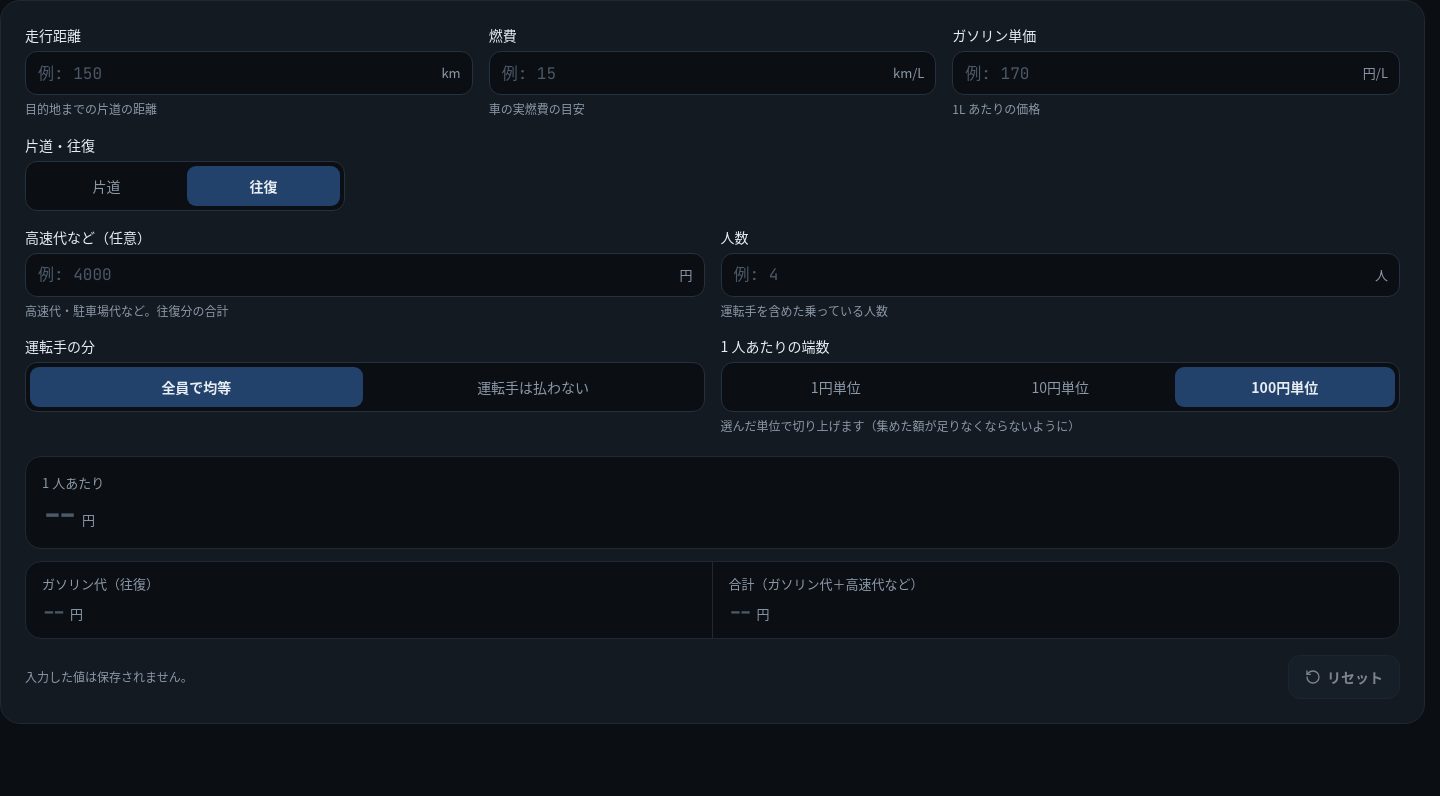
Test case: WarikanCalculator › 入力すると 1 人あたりを出し、URL のクエリを置き換える（履歴は増やさない）
Type "150" into the field labelled "走行距離" at (249,73), box [25,51,473,95]
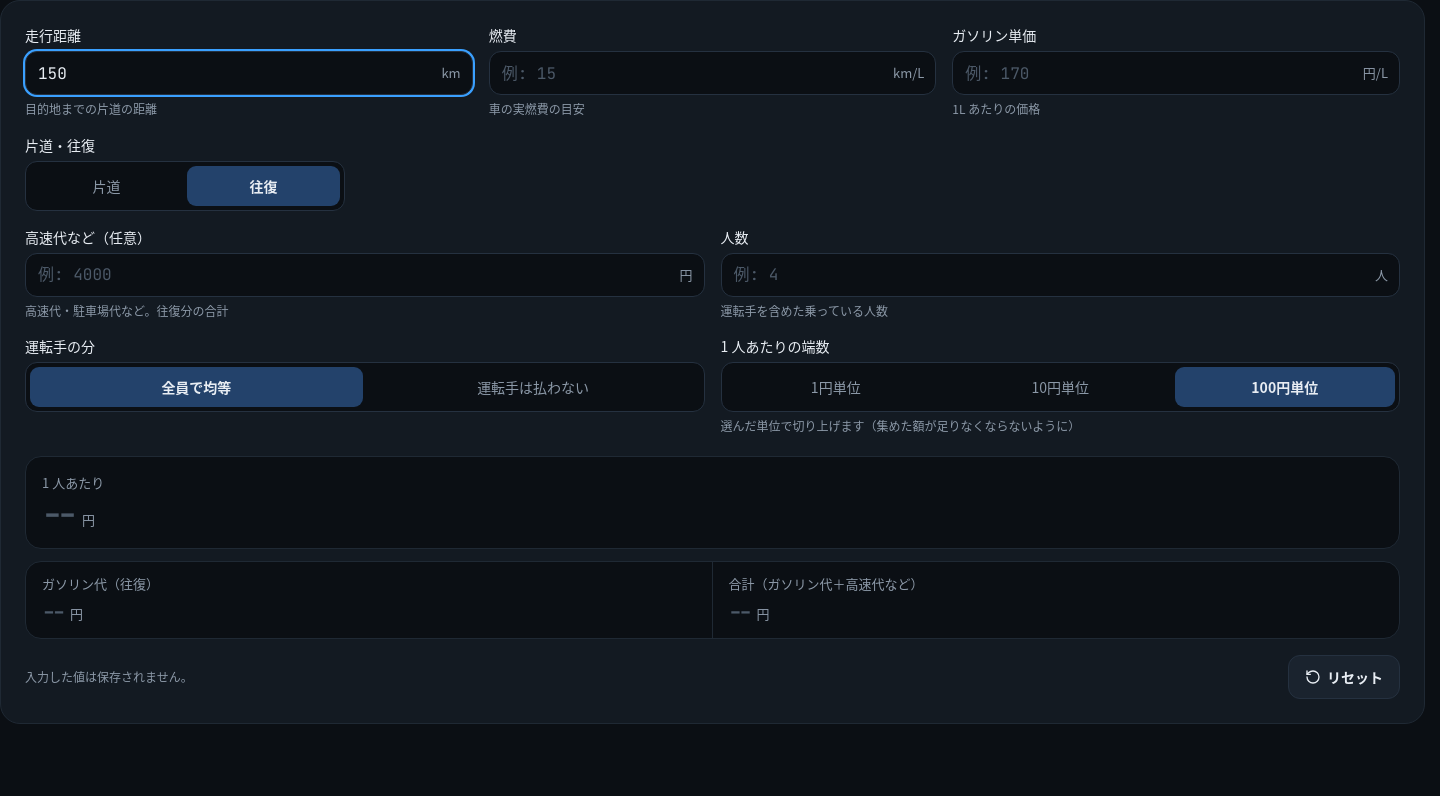
Type "15" into the field labelled "燃費" at (713,73), box [489,51,936,95]
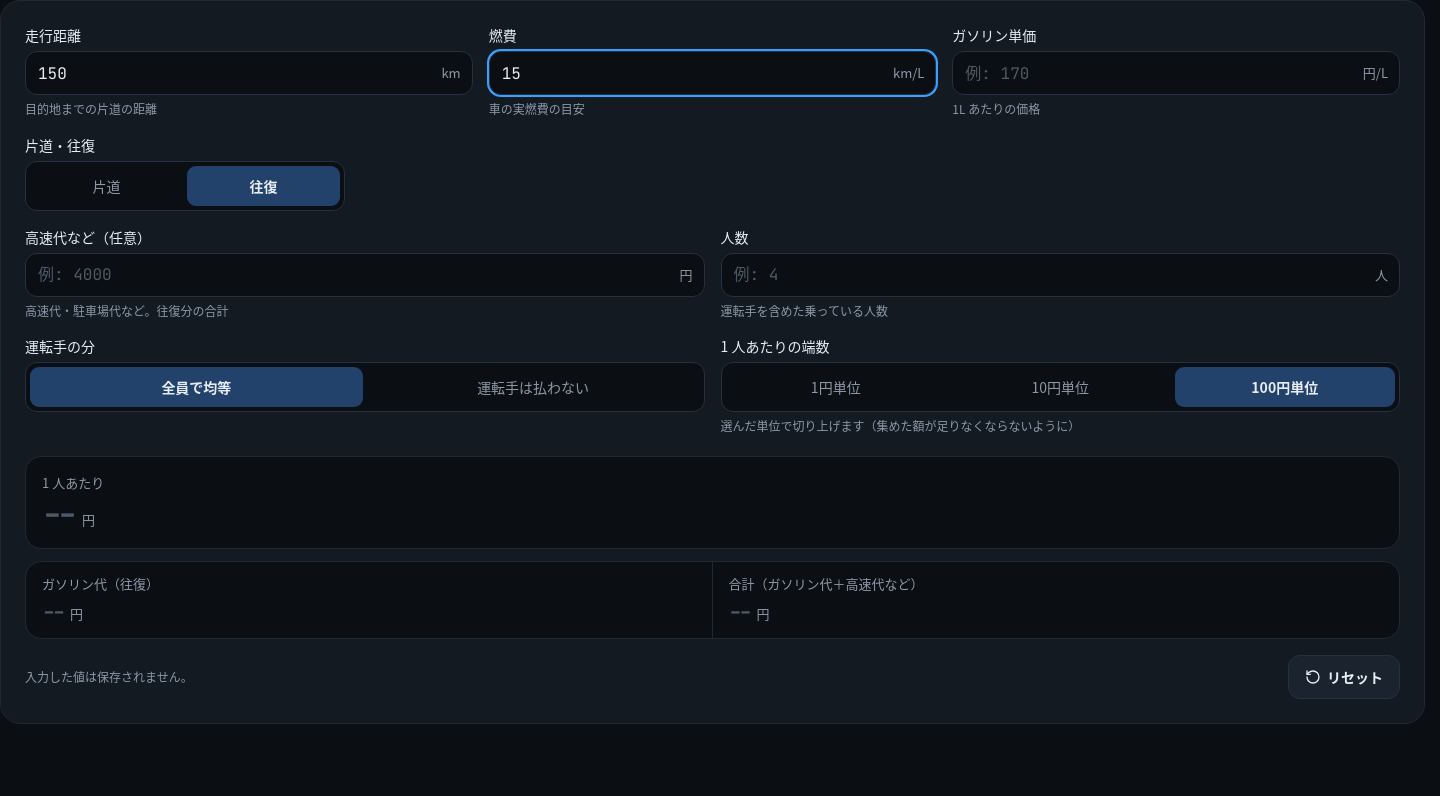
Type "170" into the field labelled "ガソリン単価" at (1176,73), box [952,51,1400,95]
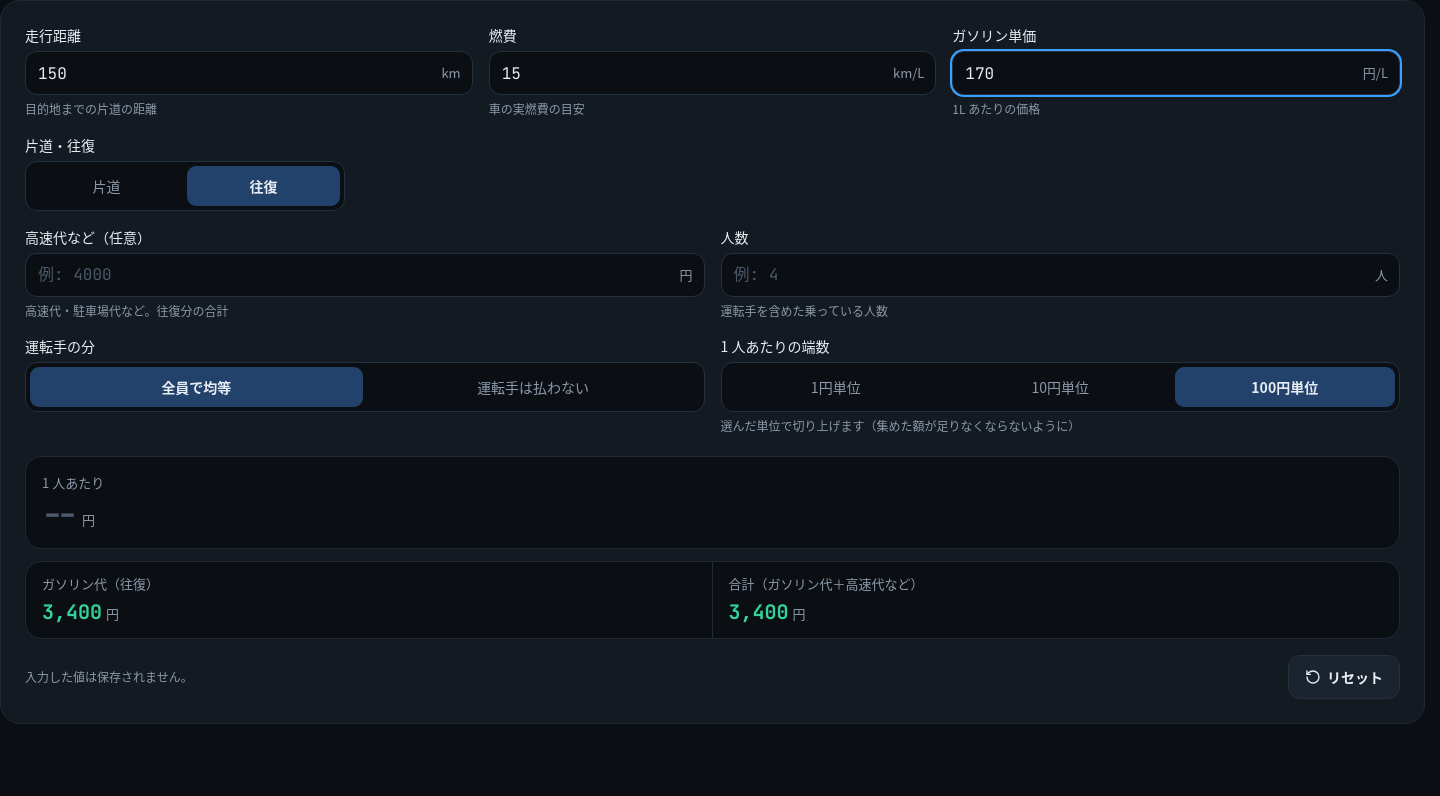
Type "4000" into the field labelled "高速代など（任意）" at (365,274), box [25,252,704,296]
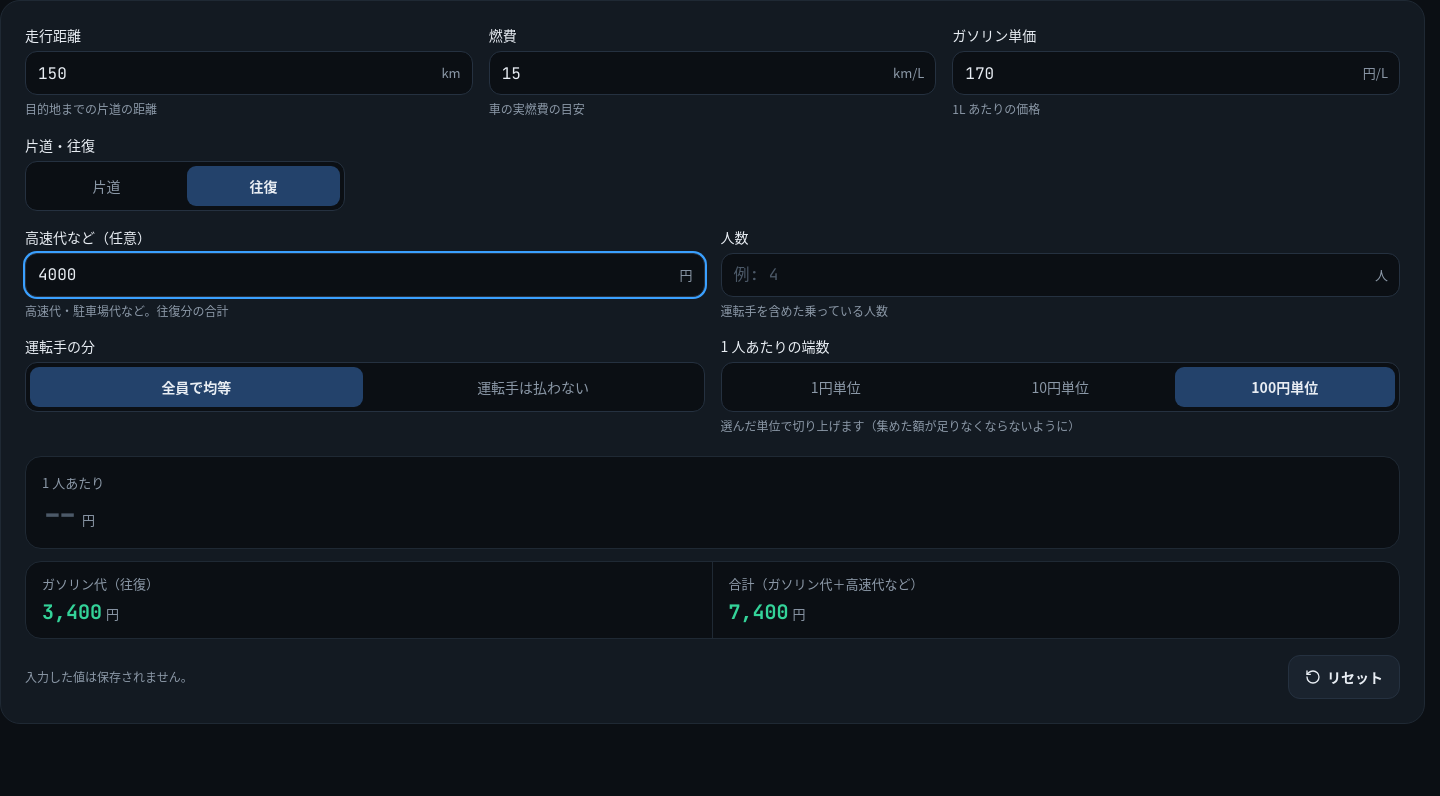
Type "4" into the field labelled "人数" at (1060,274), box [720,252,1400,296]
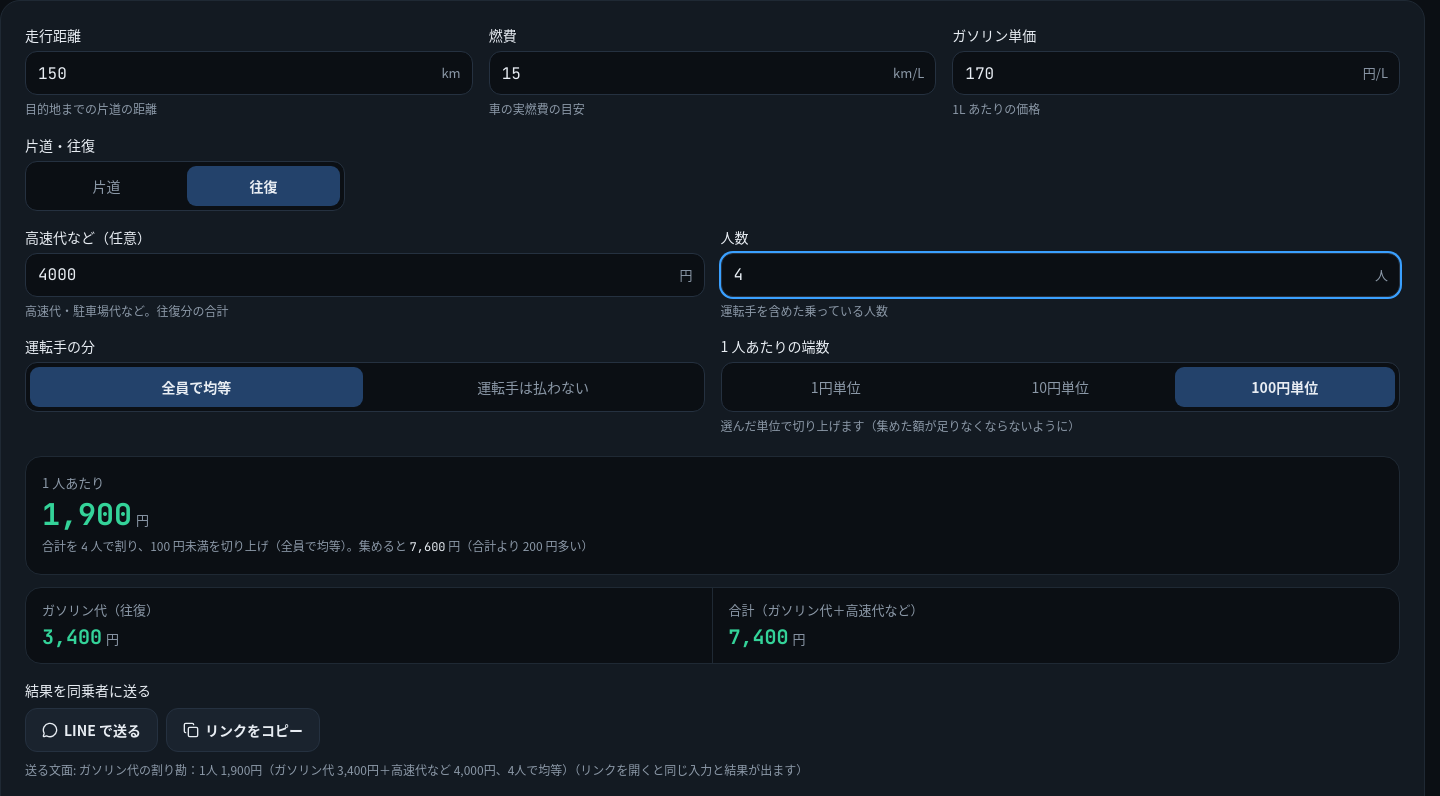
Check: the text "1,900" is shown, box [42,496,132,532]
Click the button "運転手は払わない" at (533,387), box [367,367,700,407]
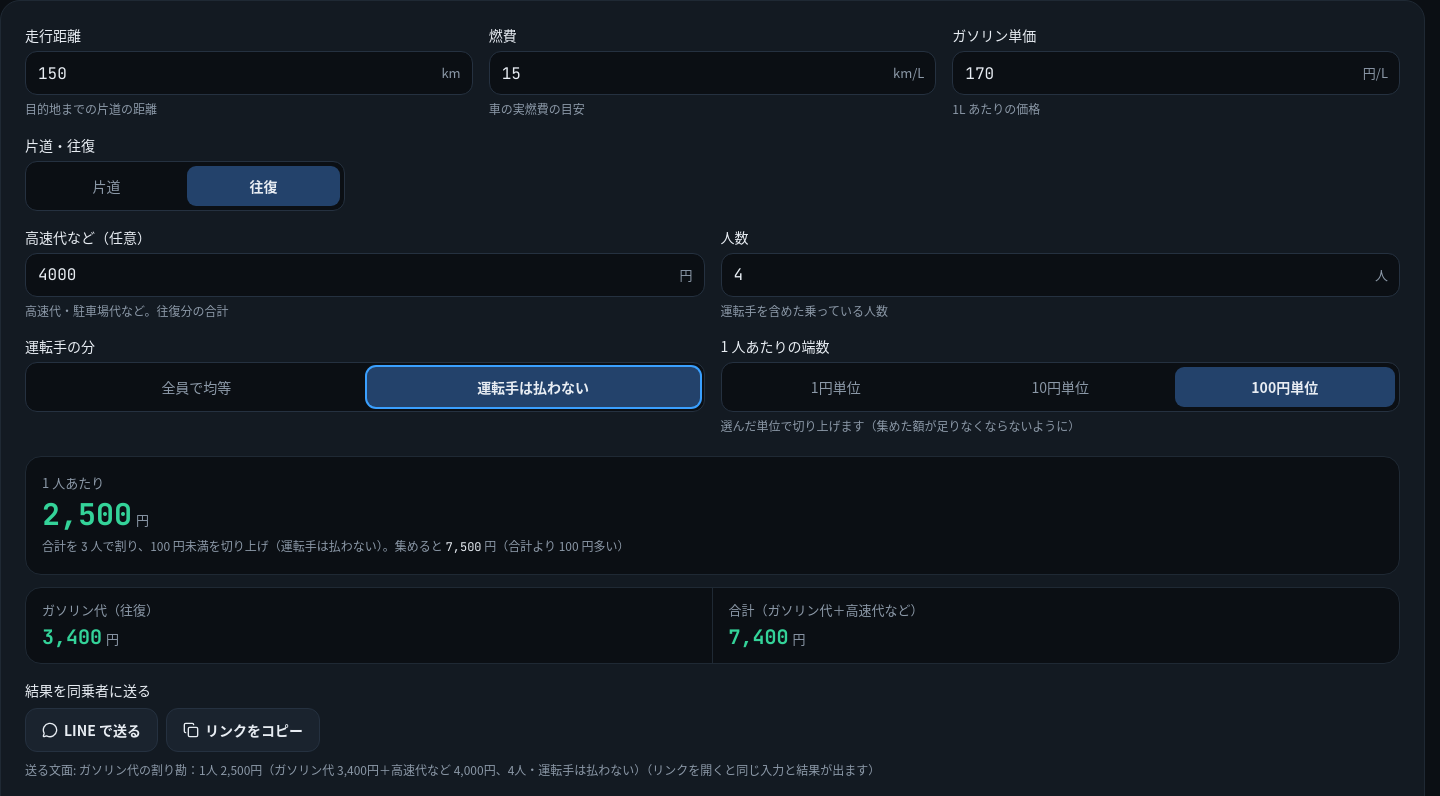
Check: the text "2,500" is shown, box [42,496,132,532]
